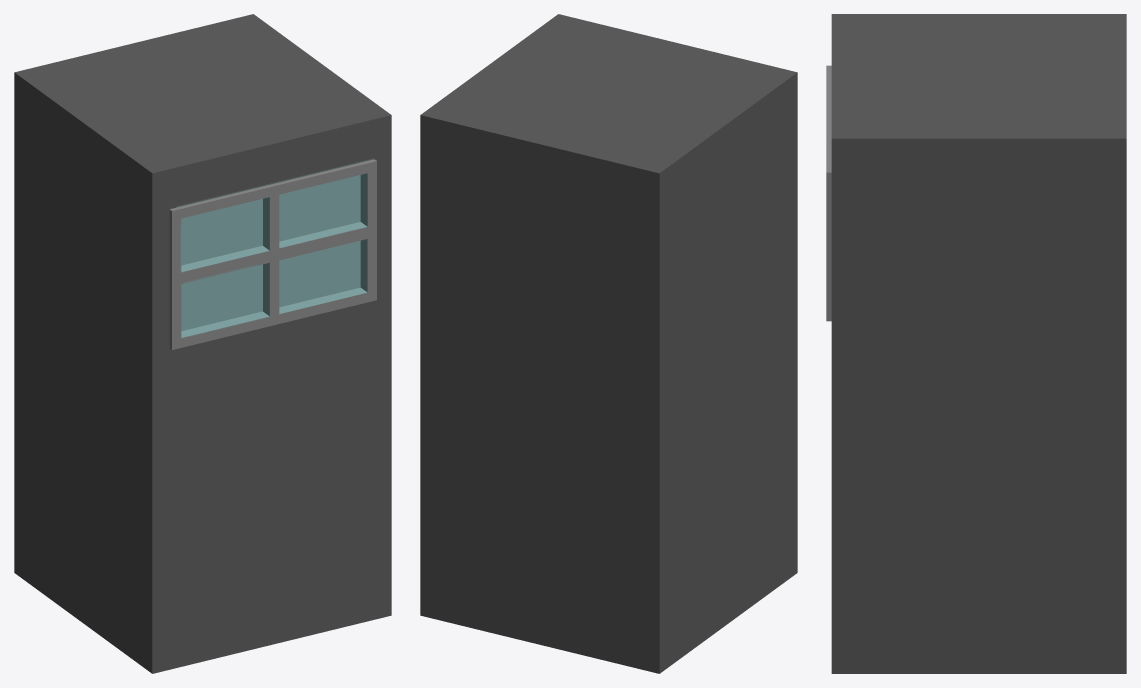
Rendered from wall1.fbx.
3 renders of one model, left to right at view 1: azimuth 30°, elevation 25°; view 2: azimuth 150°, elevation 25°; view 3: azimuth 270°, elevation 25°, orthographic. The views are drawn at different scales.
Parts seen in each view (by area): view 1: pCube97, pCube98; view 2: pCube97; view 3: pCube97, pCube98.
Boxes of the visible parts, box(x1,y1,x2,y2) form: pCube97: box(14, 14, 391, 673); pCube98: box(169, 159, 376, 349); pCube97: box(420, 14, 797, 673); pCube97: box(831, 14, 1126, 673); pCube98: box(826, 65, 831, 321).
Size of the model in its own units: 1 by 2 by 1.02.
1 material, 1 textured.
